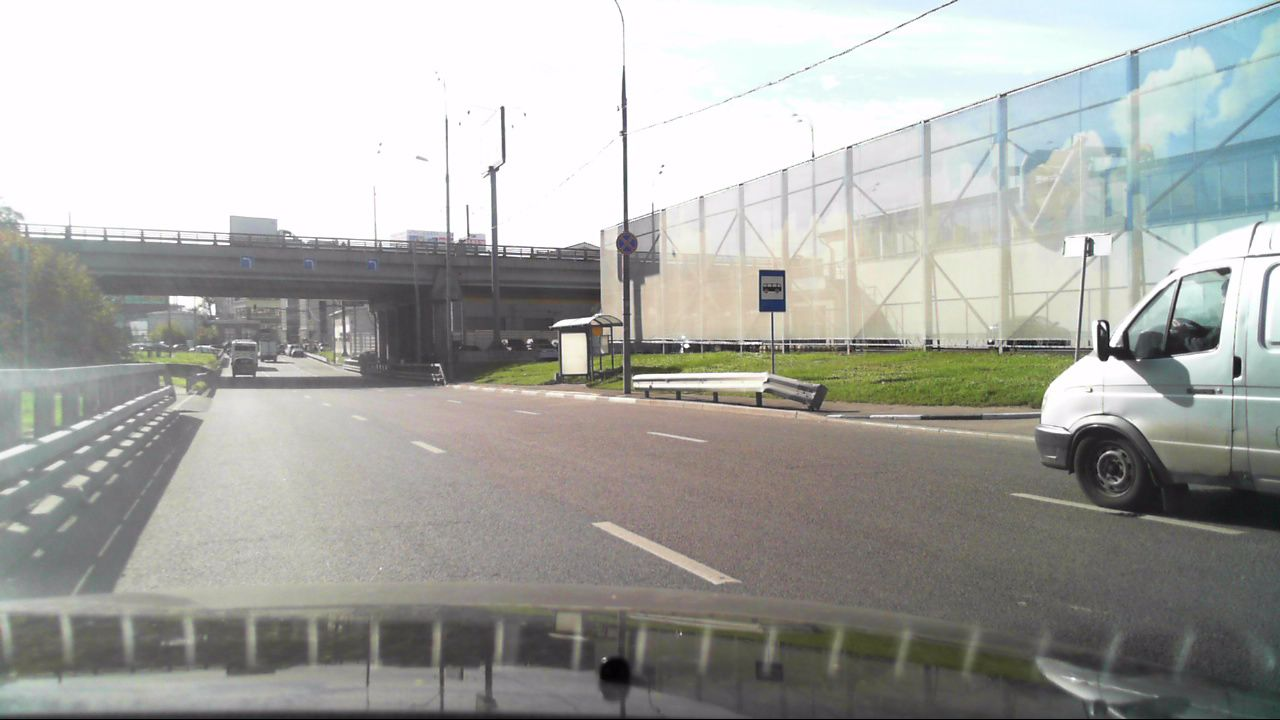No Parking: (614, 231, 640, 255)
